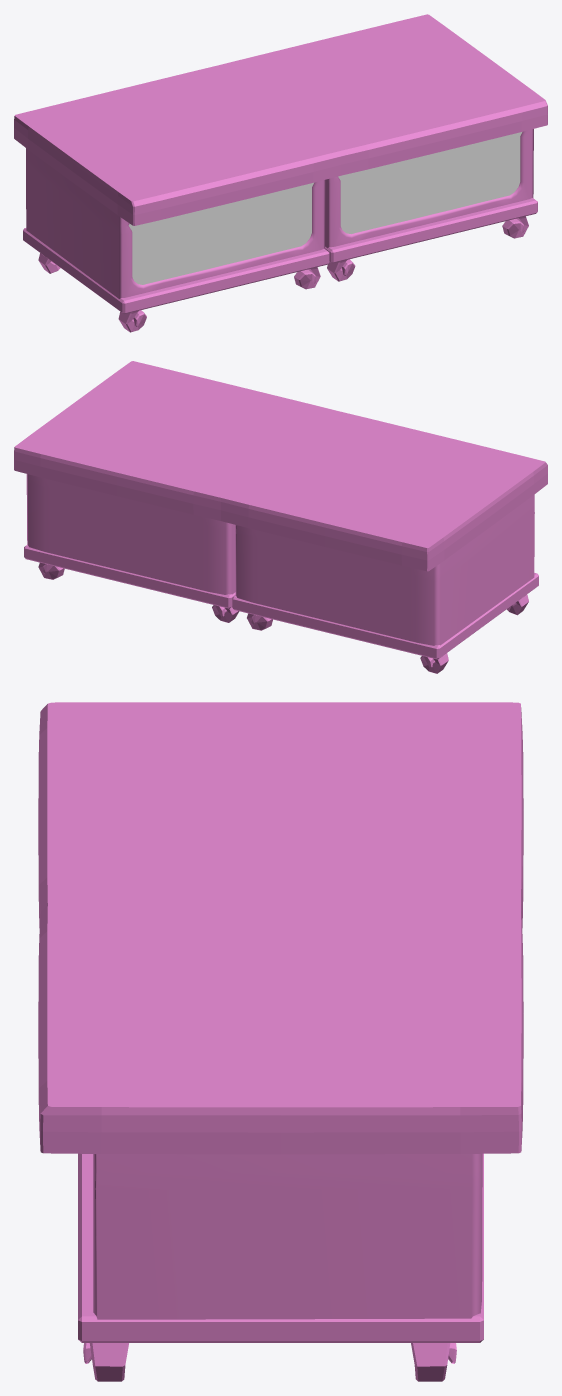
The model's file is ENV_HAU_SHOWCASEBOTTOMDOUBLE_MODEL.fbx.
3 renders of one model, top to bottom at view 1: azimuth 30°, elevation 25°; view 2: azimuth 150°, elevation 25°; view 3: azimuth 270°, elevation 25°, orthographic. The views are drawn at different scales.
Parts seen in each view (by area): view 1: ENV_HAU_SHOWCASEBOTTOMDOUBLE_MODEL; view 2: ENV_HAU_SHOWCASEBOTTOMDOUBLE_MODEL; view 3: ENV_HAU_SHOWCASEBOTTOMDOUBLE_MODEL.
Boxes of the visible parts, x1=… form: ENV_HAU_SHOWCASEBOTTOMDOUBLE_MODEL: x1=14, y1=14, x2=547, y2=332; ENV_HAU_SHOWCASEBOTTOMDOUBLE_MODEL: x1=14, y1=361, x2=547, y2=673; ENV_HAU_SHOWCASEBOTTOMDOUBLE_MODEL: x1=38, y1=702, x2=523, y2=1381.
Bounding box in the file's own units: 200 × 65.38 × 101.
